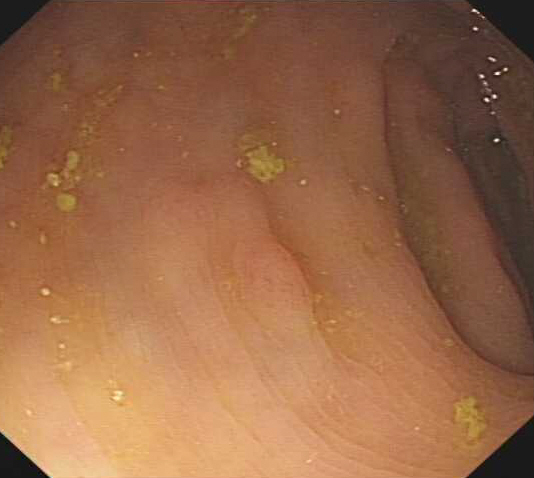adenoma: (229, 236, 319, 337)
